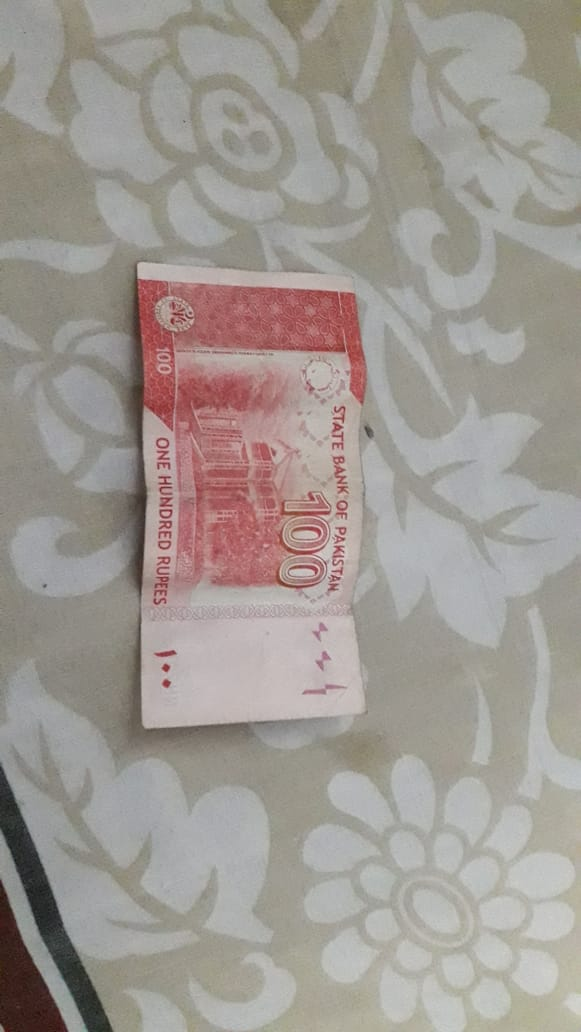100 rupee: (117, 228, 405, 766)
